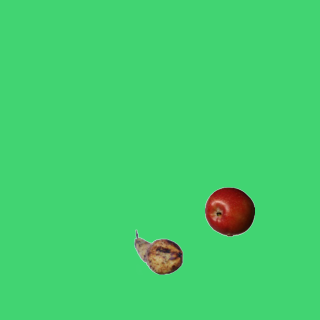Apple Braeburn: (204, 186, 254, 236)
Pear Abate: (133, 227, 183, 277)
